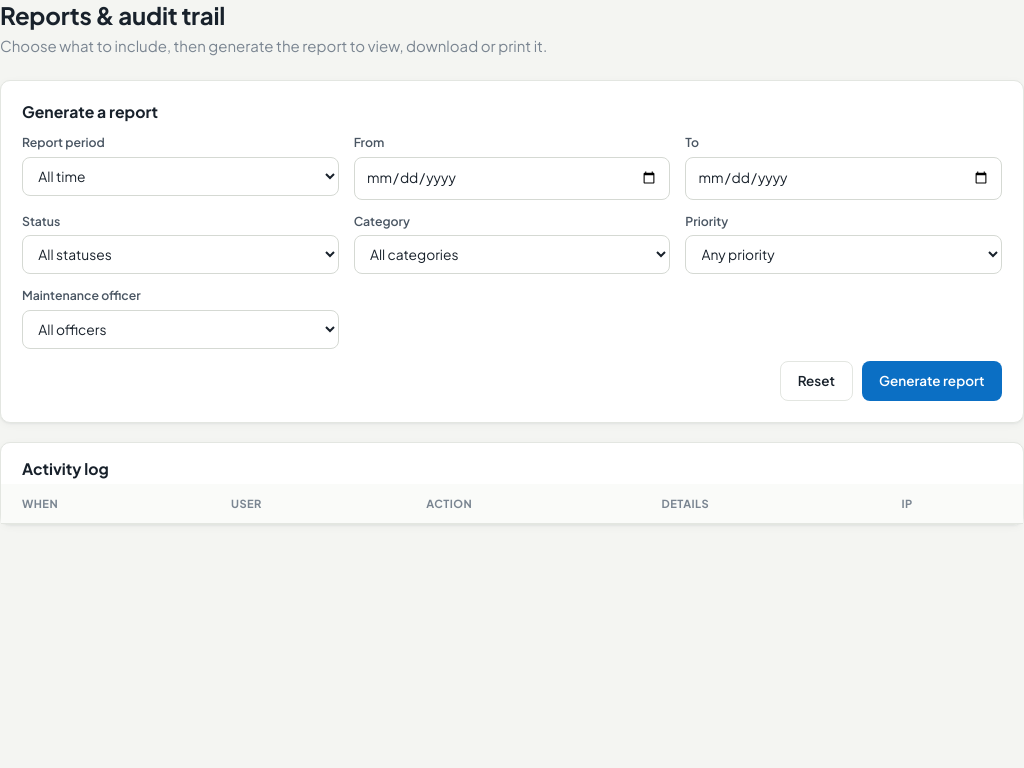
Test case: Reports page › the report modal closes with Esc or the close button
Click the button "Generate report".
click(932, 381)  # box [862,361,1002,401]
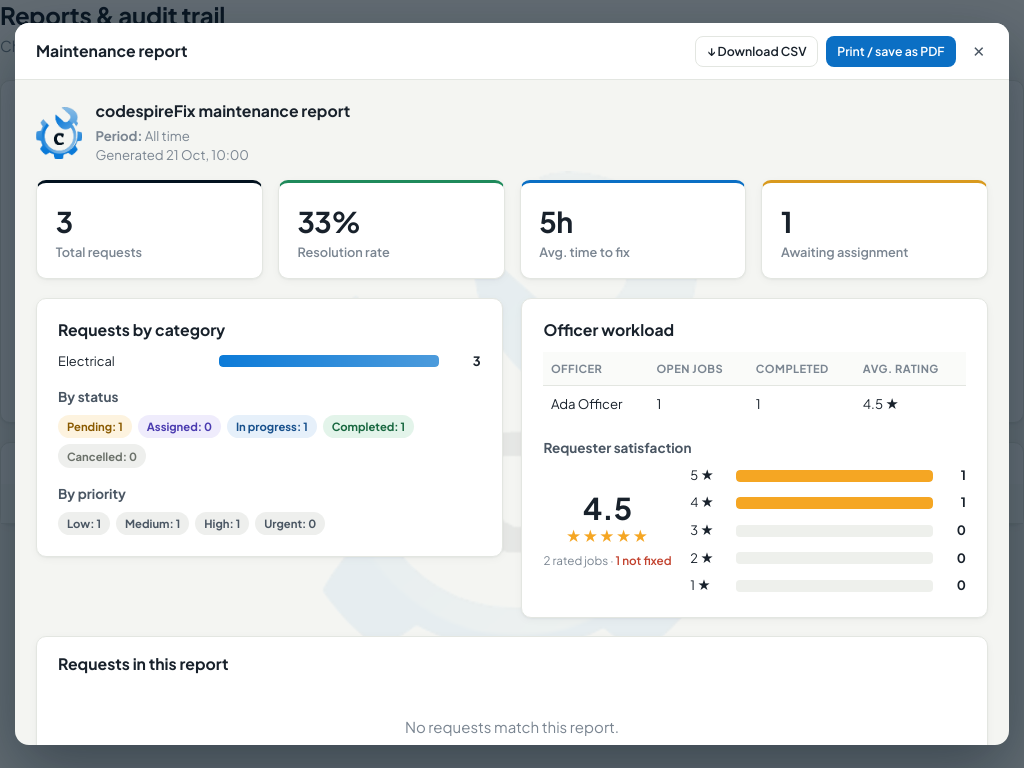
Result: the dialog is shown
Press Escape
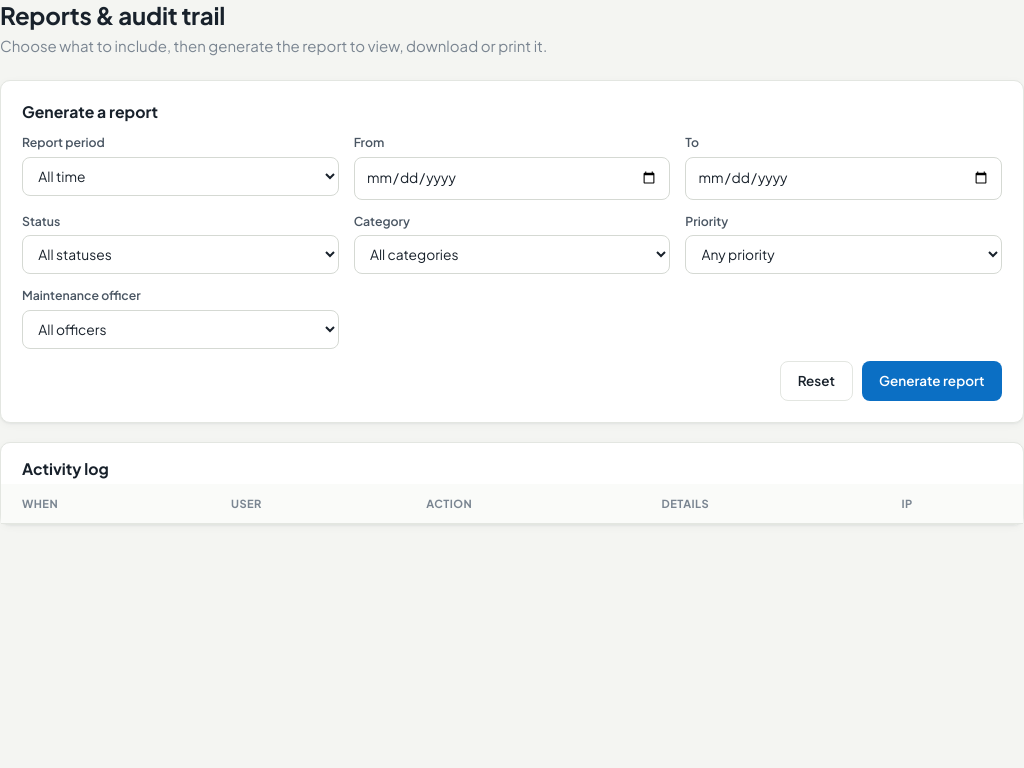
Result: the dialog is gone
Click the button "Generate report".
click(932, 381)  # box [862,361,1002,401]
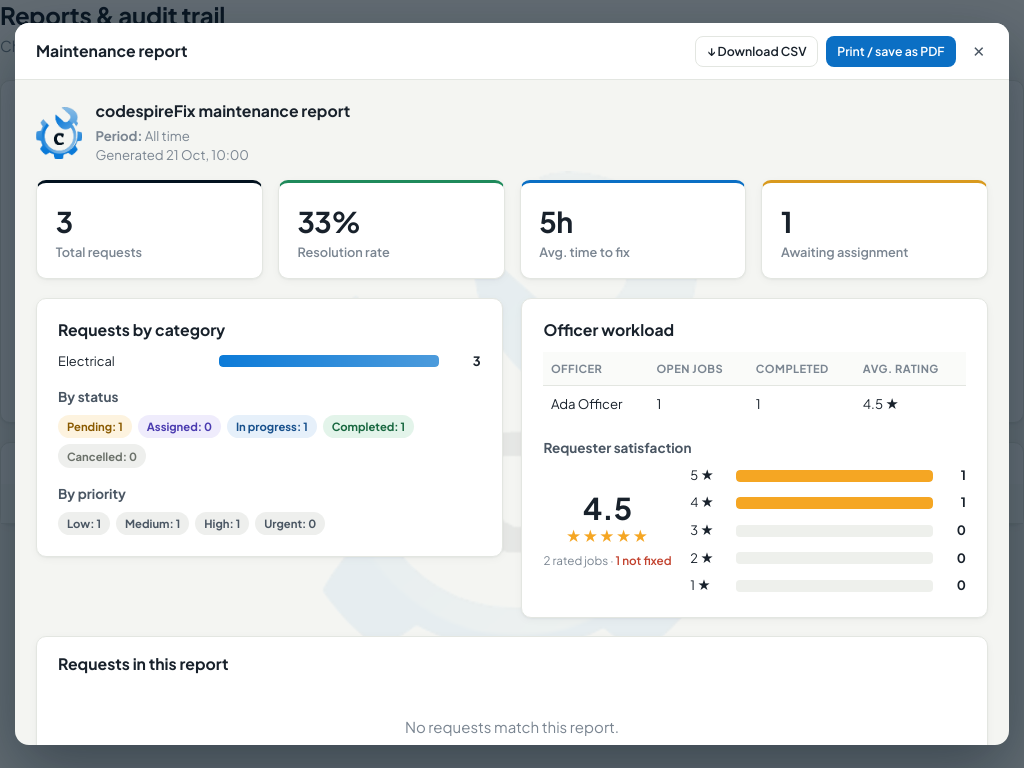
Click the button named "Close".
click(979, 51)  # box [963,36,994,66]
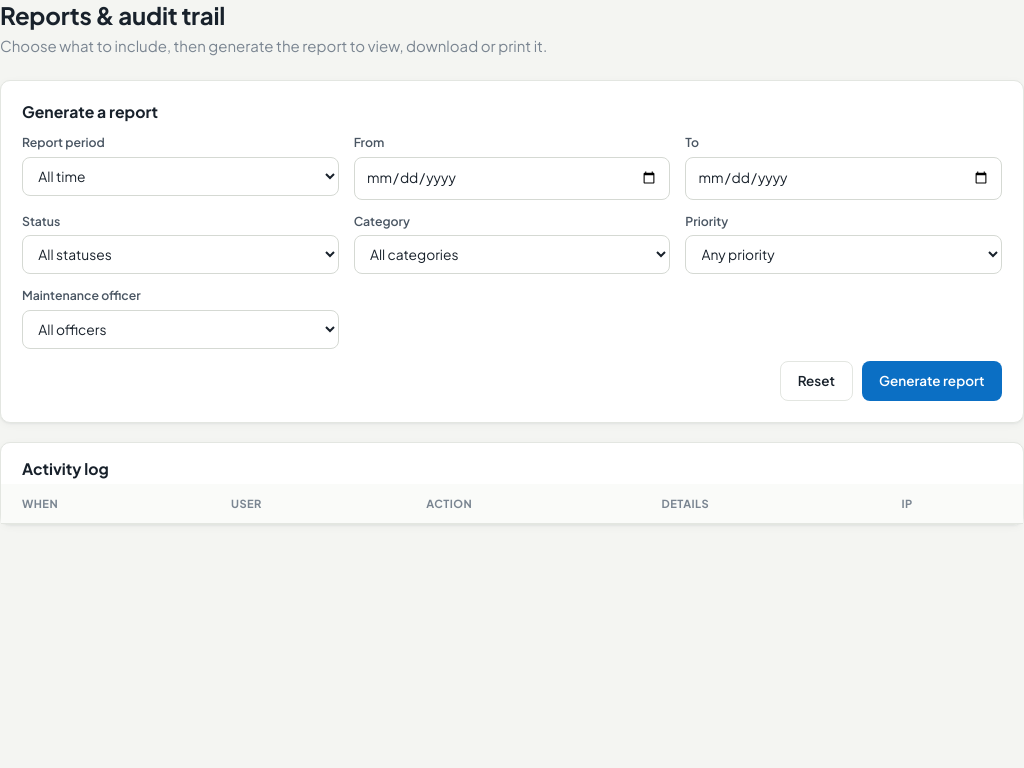
Result: the dialog is gone
